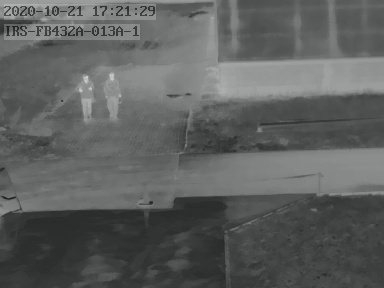person: (104, 70, 122, 122), (76, 72, 94, 121)
